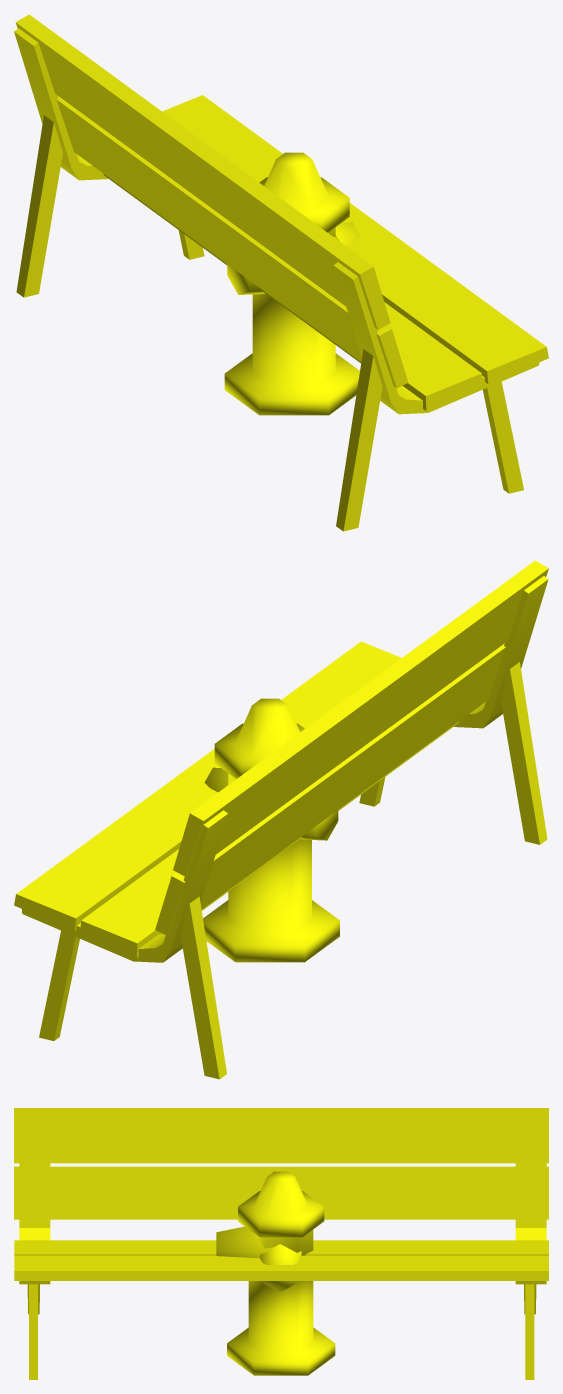
3 views of the same model, one above another, from view 1: azimuth 30°, elevation 25°; view 2: azimuth 150°, elevation 25°; view 3: azimuth 270°, elevation 25° (orthographic). The views are drawn at different scales.
Parts seen in each view (by area): view 1: GHE.001, DC_1.001; view 2: GHE.001, DC_1.001; view 3: GHE.001, DC_1.001.
Part boxes in pixels (left/top/right/bottom): GHE.001: left=14, top=14, right=548, bottom=531; DC_1.001: left=224, top=152, right=360, bottom=415; GHE.001: left=14, top=560, right=548, bottom=1079; DC_1.001: left=203, top=698, right=339, bottom=962; GHE.001: left=14, top=1108, right=548, bottom=1379; DC_1.001: left=216, top=1171, right=335, bottom=1375.
Bounding box in the file's own units: 0.6334 × 0.8364 × 1.92.
Materials: 1 (1 with a texture image).
